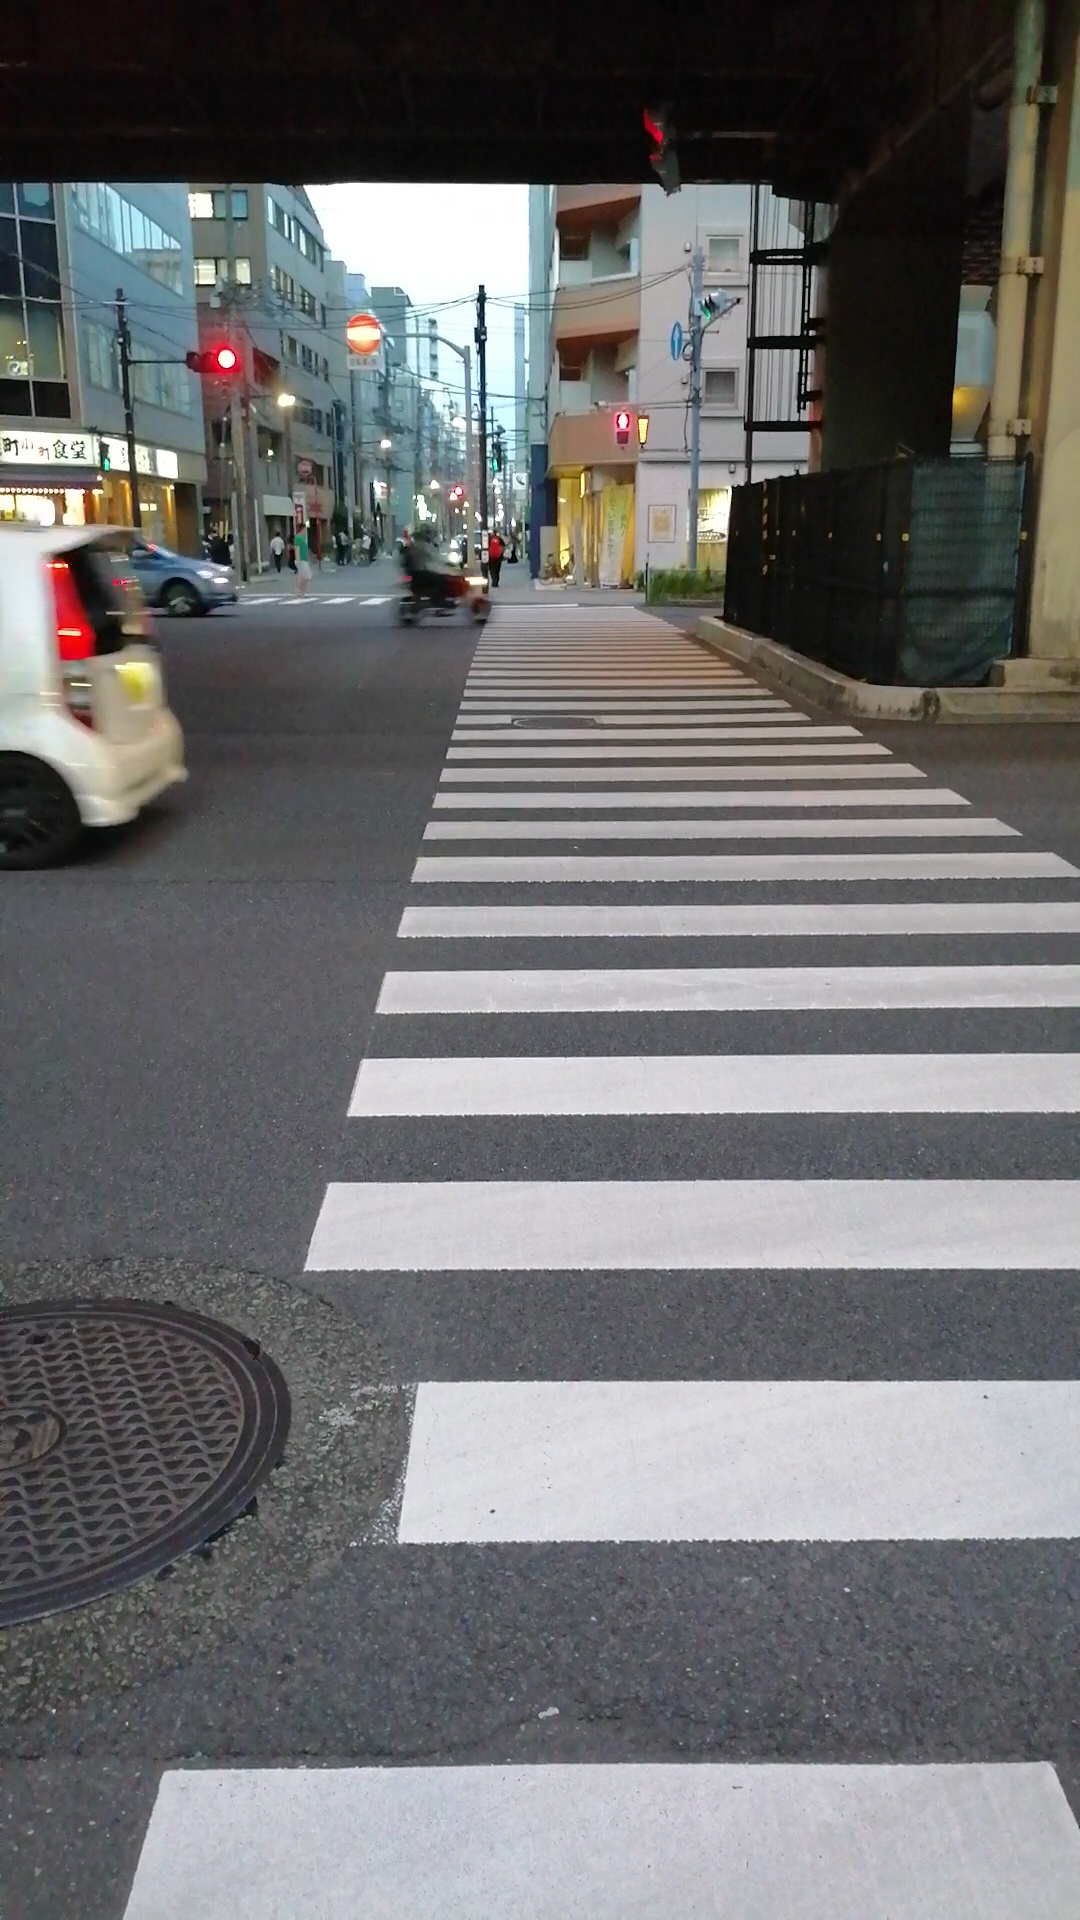red: (611, 407, 632, 450)
